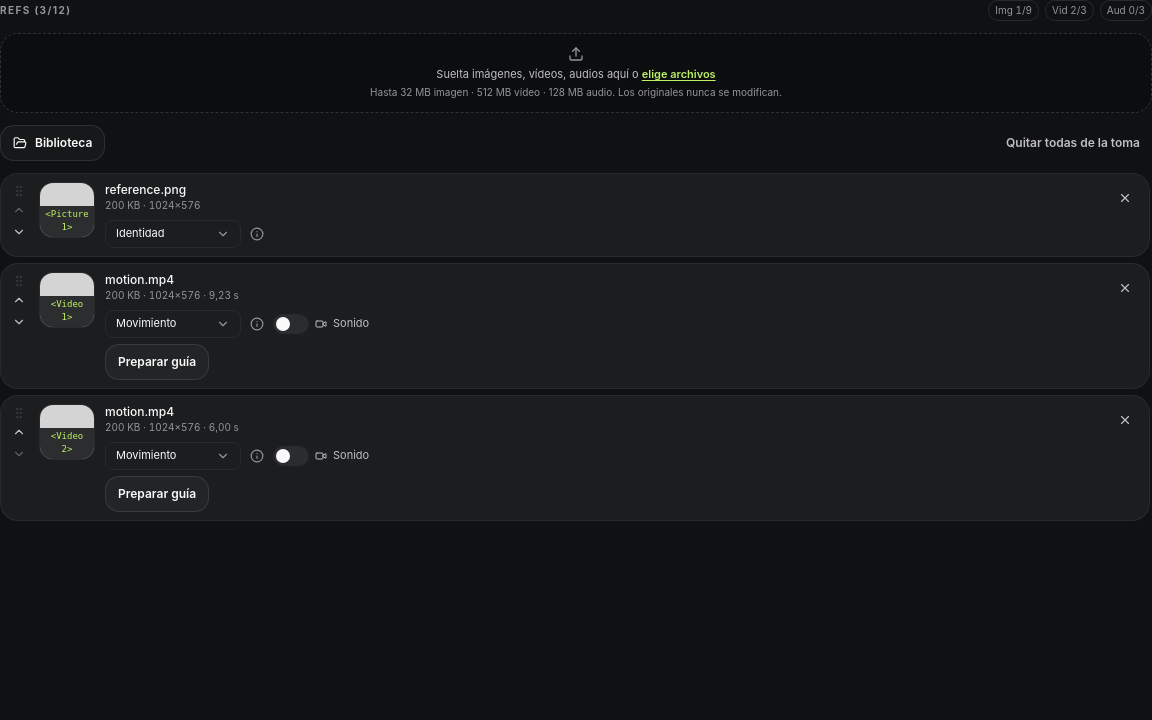
Scenario: Preparar guía integration › previews seconds 10 as 243 exact grid frames without silently shortening
The image size is (1152, 720).
Click the button "Preparar guía" below "· 9,23 s": click(157, 362) [105,344,209,380]
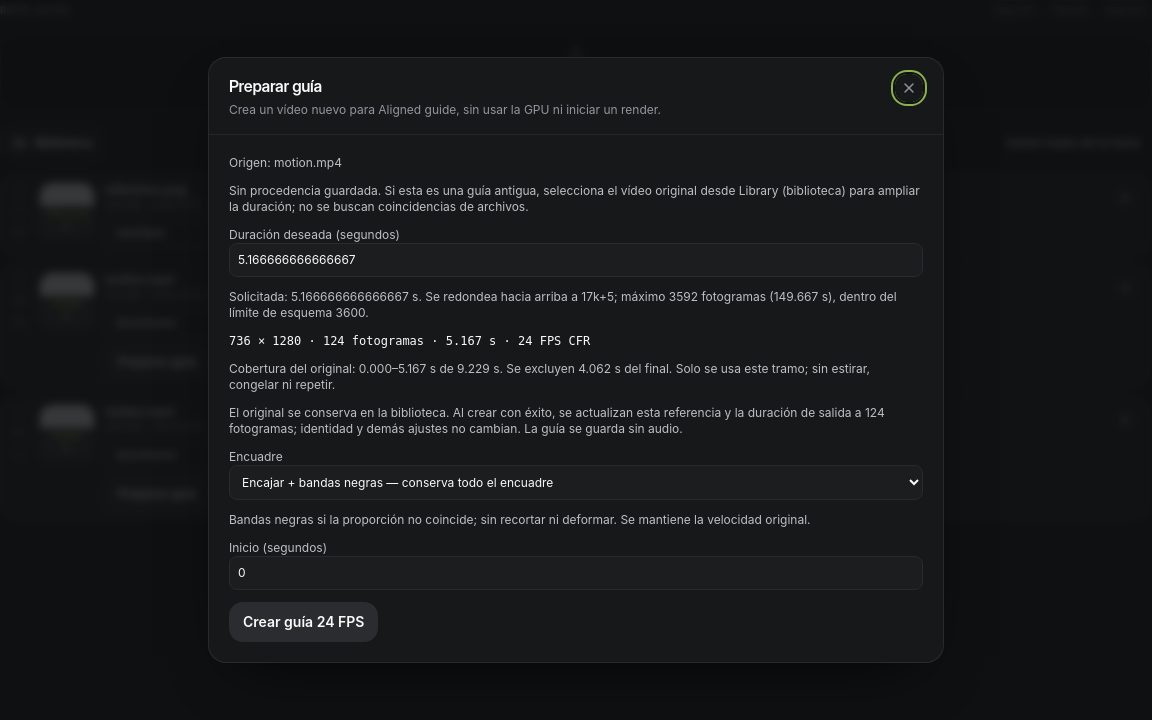
Replace the text in the number field labelled "Duración deseada (segundos)" with "10": (576, 260) [229,243,923,277]
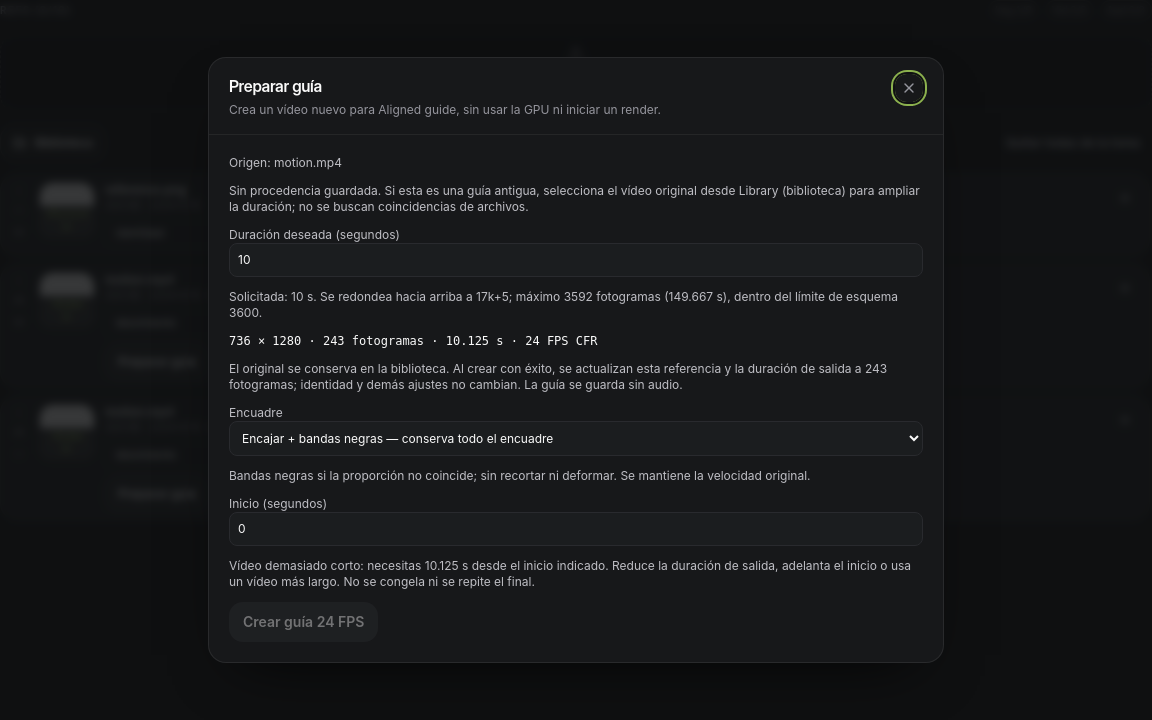
Expected: the text "736 × 1280 · 243 fotogramas · 10.125 s · 24 FPS CFR" is shown, [229,334,598,348]
